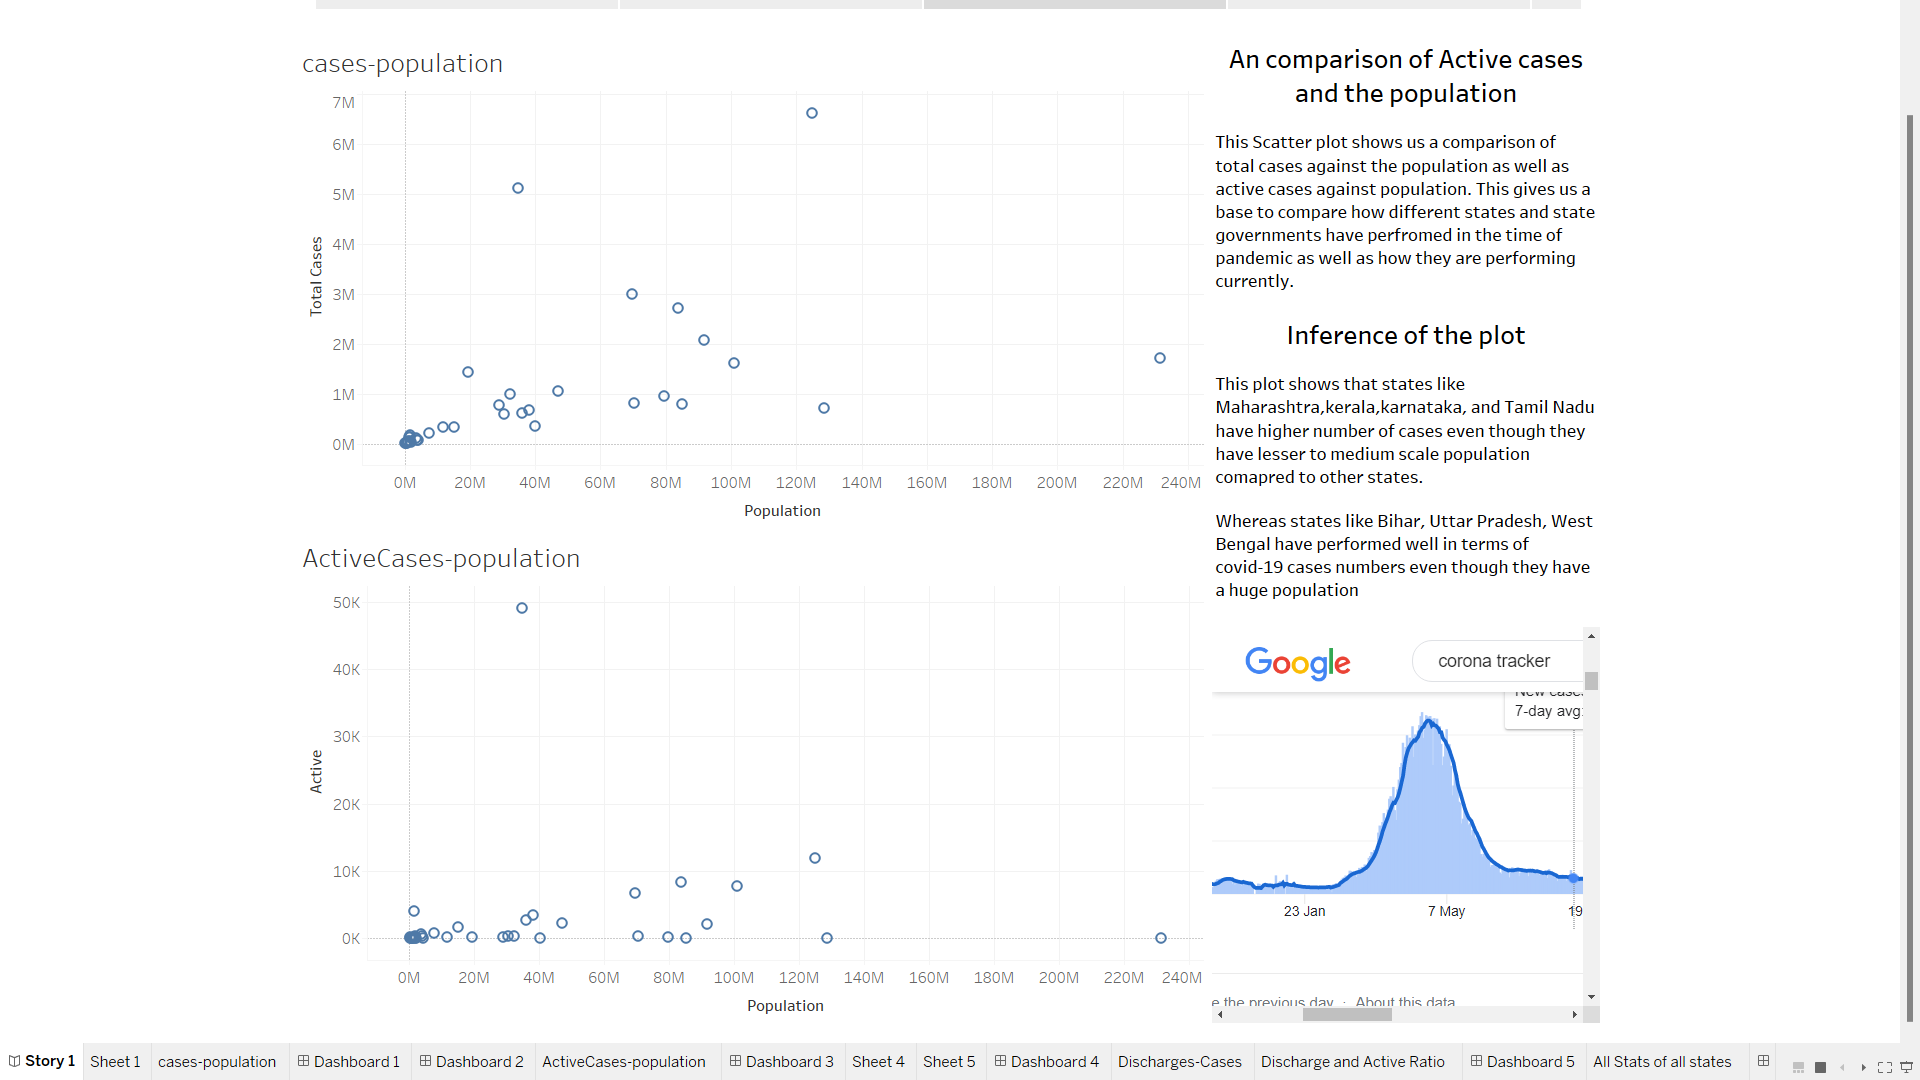

The dashboard page shown, as its layout file describes it:
{"tool":"tableau","page":{"name":"Dashboard 2","canvas":[1000,1000],"units":"permille","ordinal":1},"visuals":[{"type":"worksheet","title":"cases-population","mark":"Automatic","rows":["Total Cases"],"cols":["Population"],"box":[4.2,7.7,691.6,492.3]},{"type":"text","box":[695.8,7.7,300.1,265.3]},{"type":"text","box":[695.8,273,300.1,317.2]},{"type":"worksheet","title":"ActiveCases-population","mark":"Automatic","rows":["Active"],"cols":["Population"],"box":[4.2,500,691.6,492.3]},{"type":"web page","param":"https://www.google.com/search?q=corona+tracker&rlz=1C1CHBF_enIN925IN925&oq=coron","box":[695.8,590.2,300.1,402.1]}]}

Visuals, with their boxes on the dashboard's canvas, which has no fixed pixel size, in thousandths of its width and height (x1, y1, x2, y2). These are canvas units, not pixel positions in the 1920x1080 screenshot, which may show the page scaled, cropped or inside an application window:
"cases-population" worksheet: 4 8 696 500
text: 696 8 996 273
text: 696 273 996 590
"ActiveCases-population" worksheet: 4 500 696 992
web page: 696 590 996 992
